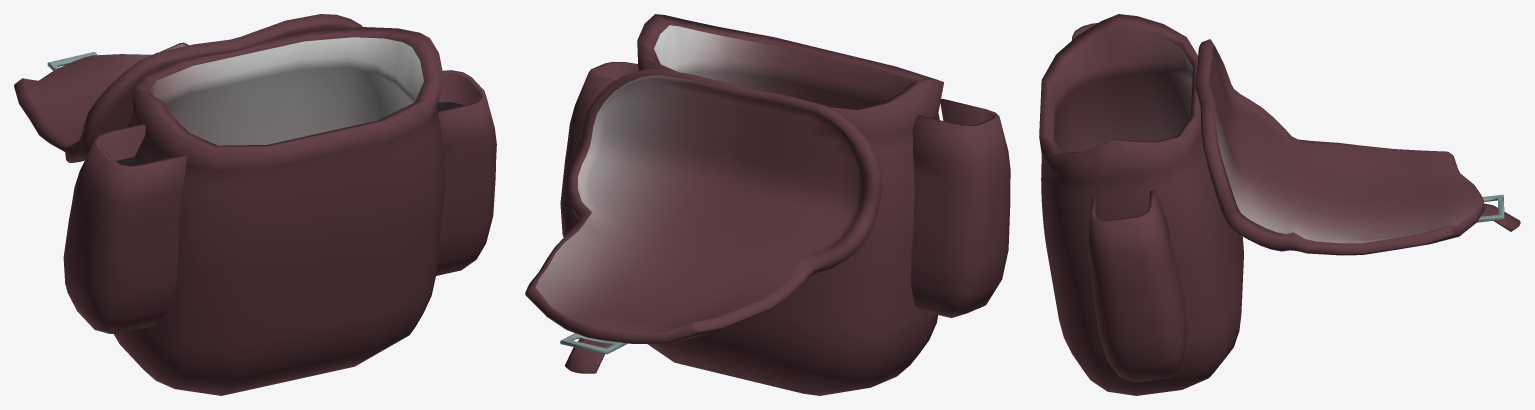
Rendered from BagOficial.fbx.
3 views of the same model, side by side, from view 1: azimuth 30°, elevation 25°; view 2: azimuth 150°, elevation 25°; view 3: azimuth 270°, elevation 25° (orthographic). The views are drawn at different scales.
Visible parts, largest first — view 1: Plane.006; view 2: Plane.006; view 3: Plane.006.
Part boxes in pixels (x1=…): Plane.006: x1=14, y1=14, x2=496, y2=395; Plane.006: x1=525, y1=14, x2=1010, y2=395; Plane.006: x1=1039, y1=14, x2=1520, y2=395.
Size of the model in its own units: 115 by 83.47 by 127.
1 material, 1 textured.
